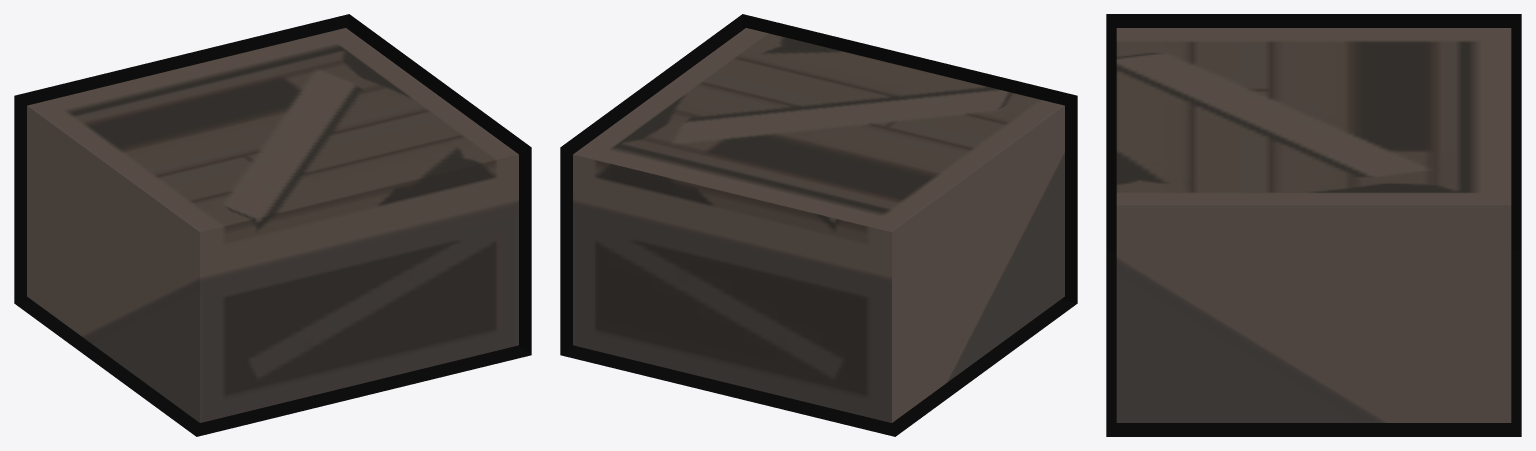
File: Building_AncientWoodenCrate_Things_Building_Ancient_Shipping_OldWoodenCrate_OldWoodenCrateA.glb
The picture shows the model from 3 angles, left to right: view 1: azimuth 30°, elevation 25°; view 2: azimuth 150°, elevation 25°; view 3: azimuth 270°, elevation 25°; orthographic projection. The views are drawn at different scales.
Parts seen in each view (by area): view 1: Body, Outline; view 2: Body, Outline; view 3: Body, Outline.
Part boxes in pixels (x1,y1,x2,y2): Body: [27, 28, 518, 422]; Outline: [14, 14, 531, 436]; Body: [573, 28, 1064, 422]; Outline: [560, 14, 1077, 436]; Body: [1116, 28, 1511, 422]; Outline: [1106, 14, 1521, 436].
Size of the model in its own units: 0.9357 by 0.5543 by 0.8822.
Materials: 2 (1 with a texture image).
